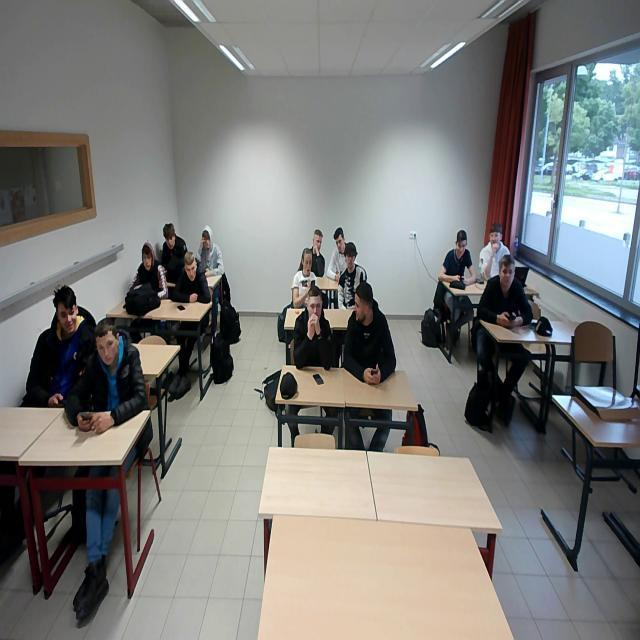Looking away: (352, 290, 375, 326), (311, 234, 323, 254)
Looking forward: (306, 295, 324, 325), (59, 304, 78, 332), (185, 263, 198, 282), (489, 233, 501, 248), (142, 255, 152, 271), (335, 237, 344, 253), (345, 255, 356, 268), (201, 237, 211, 251), (165, 236, 174, 250)
Phone use: (67, 322, 146, 429), (482, 250, 528, 336), (439, 226, 477, 298), (286, 243, 322, 308)
